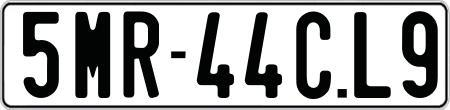4: (243, 9, 286, 99), (197, 10, 234, 98)
5: (23, 12, 60, 104)
9: (400, 9, 434, 101)
C: (295, 11, 331, 102)
L: (352, 11, 393, 98)
M: (75, 12, 111, 103)
R: (120, 10, 156, 100)
